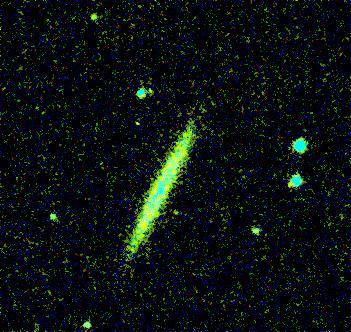star: (80, 2, 110, 32)
